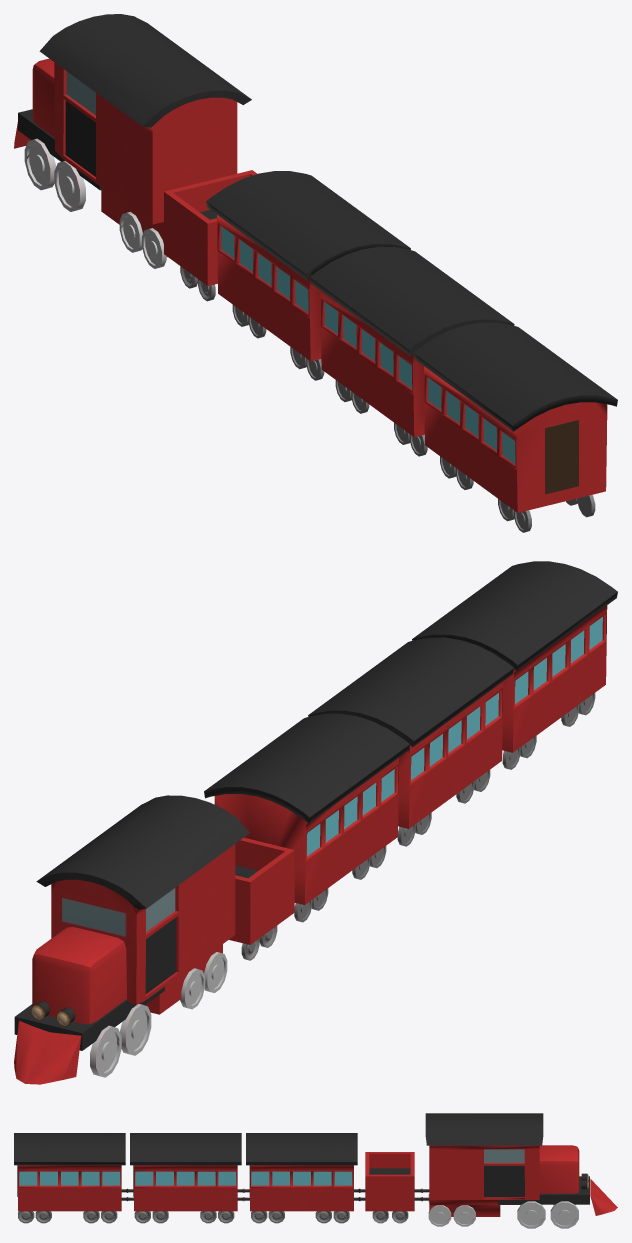
The model's file is PassengerTrain.FBX.
3 renders of one model, top to bottom at view 1: azimuth 30°, elevation 25°; view 2: azimuth 150°, elevation 25°; view 3: azimuth 270°, elevation 25°, orthographic. The views are drawn at different scales.
Parts seen in each view (by area): view 1: Pasażerski; view 2: Pasażerski; view 3: Pasażerski.
Boxes of the visible parts, bbox=[...] form: Pasażerski: bbox=[14, 14, 617, 532]; Pasażerski: bbox=[14, 561, 617, 1084]; Pasażerski: bbox=[14, 1113, 617, 1228].
Size of the model in its own units: 4906 by 41635 by 7517.
1 material, 1 textured.
